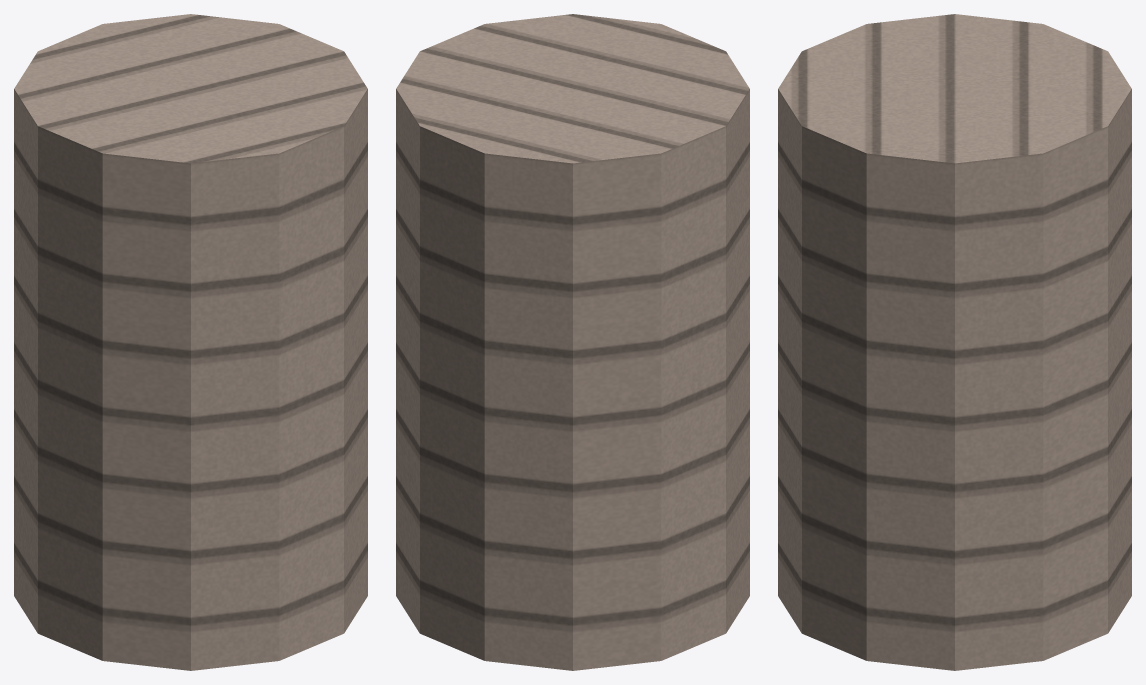
File: trash_bin.glb
The picture shows the model from 3 angles, left to right: view 1: azimuth 30°, elevation 25°; view 2: azimuth 150°, elevation 25°; view 3: azimuth 270°, elevation 25°; orthographic projection.
Parts seen in each view (by area): view 1: trash_bin-col; view 2: trash_bin-col; view 3: trash_bin-col.
Boxes of the visible parts, left/top/right/bottom form: trash_bin-col: left=14, top=14, right=367, bottom=670; trash_bin-col: left=396, top=14, right=749, bottom=670; trash_bin-col: left=778, top=14, right=1131, bottom=670.
Bounding box in the file's own units: 0.6 × 0.95 × 0.6.
Materials: 1 (1 with a texture image).
